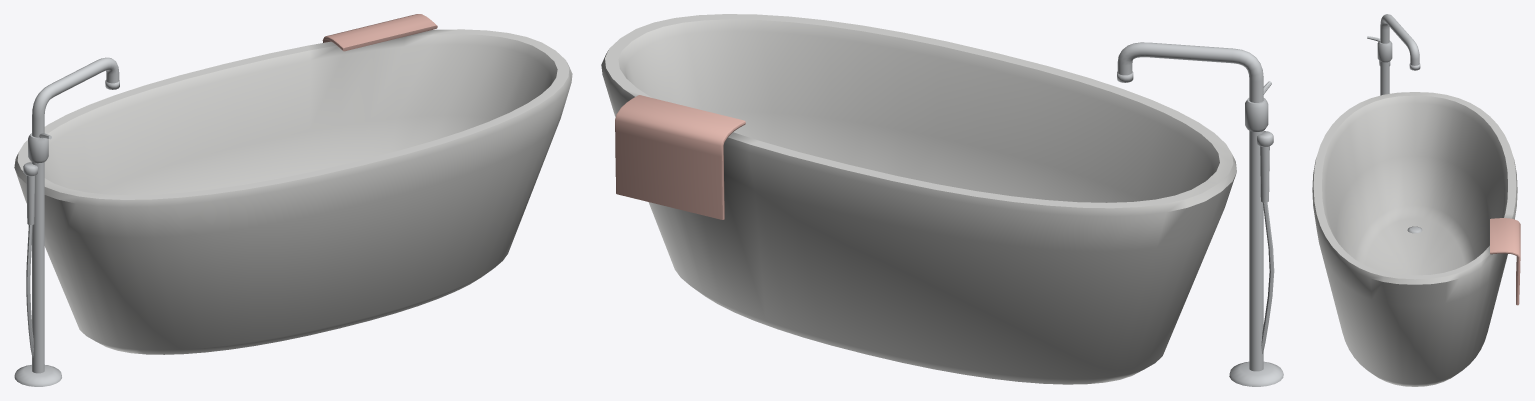
Rendered from bathtubFreestanding.glb.
3 views of the same model, side by side, from view 1: azimuth 30°, elevation 25°; view 2: azimuth 150°, elevation 25°; view 3: azimuth 270°, elevation 25° (orthographic). The views are drawn at different scales.
Visible parts, largest first — view 1: body; view 2: body; view 3: body.
Boxes of the visible parts, x1,y1,x2,y2 form: body: (14, 14, 572, 386); body: (601, 14, 1283, 386); body: (1312, 14, 1520, 386).
Bounding box in the file's own units: 1.89 × 0.9189 × 0.8319.
